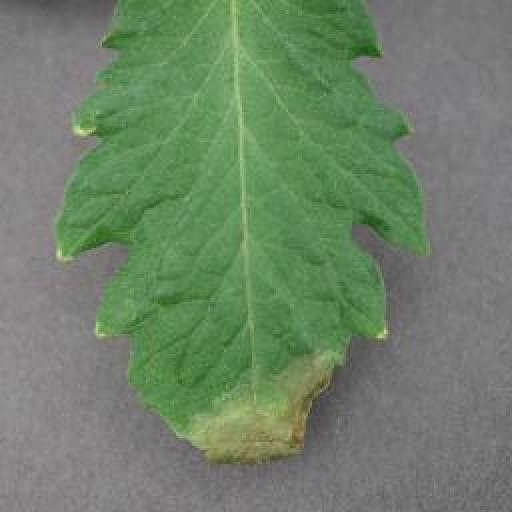disease_tomato: (52, 0, 436, 468)
